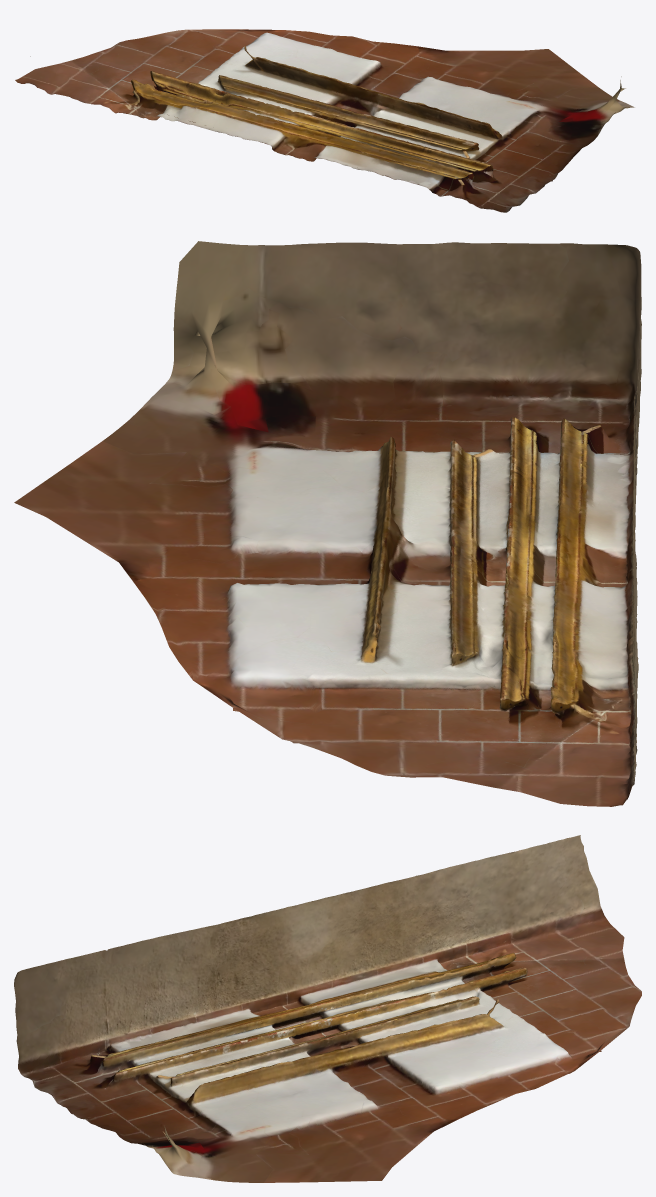
3 views of the same model, one above another, from view 1: azimuth 30°, elevation 25°; view 2: azimuth 150°, elevation 25°; view 3: azimuth 270°, elevation 25° (orthographic). The views are drawn at different scales.
Visible parts, largest first — view 1: Node; view 2: Node; view 3: Node.
Boxes of the visible parts, x1,y1,x2,y2 form: Node: (15, 29, 634, 212); Node: (14, 241, 641, 806); Node: (14, 835, 641, 1182).
Bounding box in the file's own units: 4.37 × 0.8234 × 4.55.
Materials: 1 (1 with a texture image).
